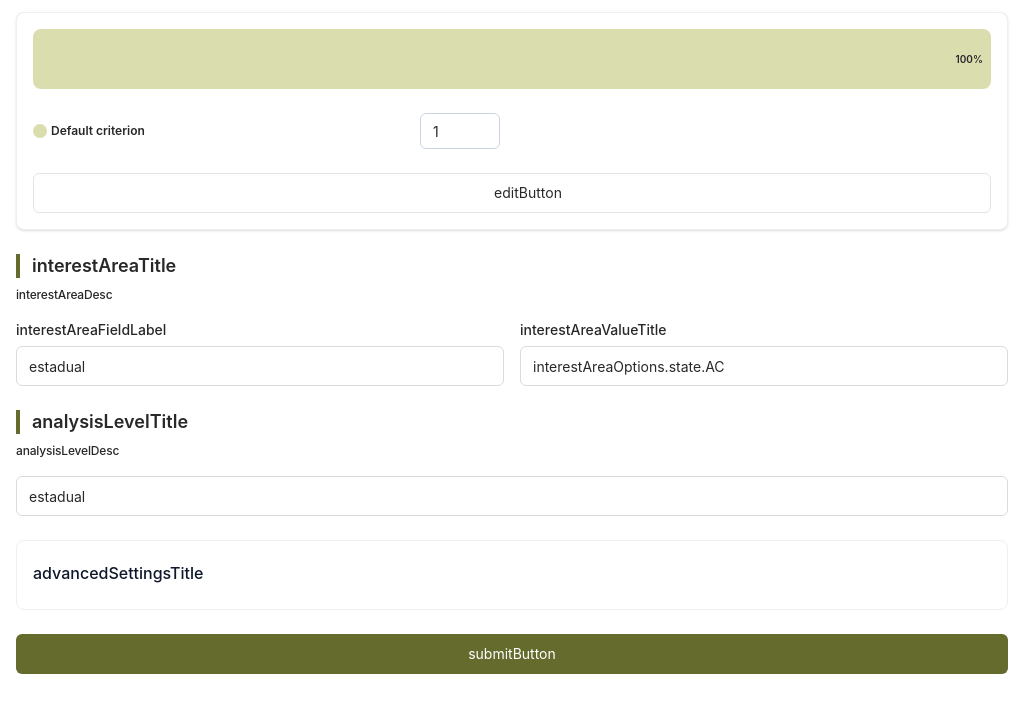
opens the advanced settings when a threshold is missing
This screenshot has width=1024, height=722.
(page scrolled)
Click the button "advancedSettingsTitle" at point(118, 573), box x1=17 y1=545 x2=1007 y2=601
(page scrolled)
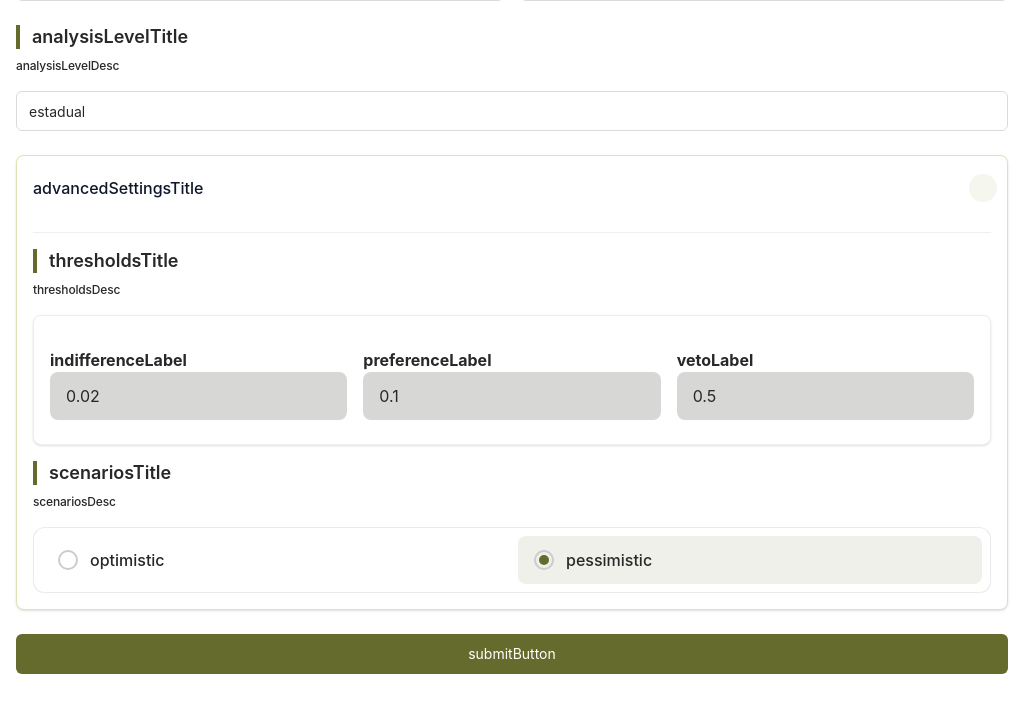
Clear the number field with placeholder "indifferencePlaceholder" at point(199, 396), box x1=50 y1=372 x2=347 y2=420
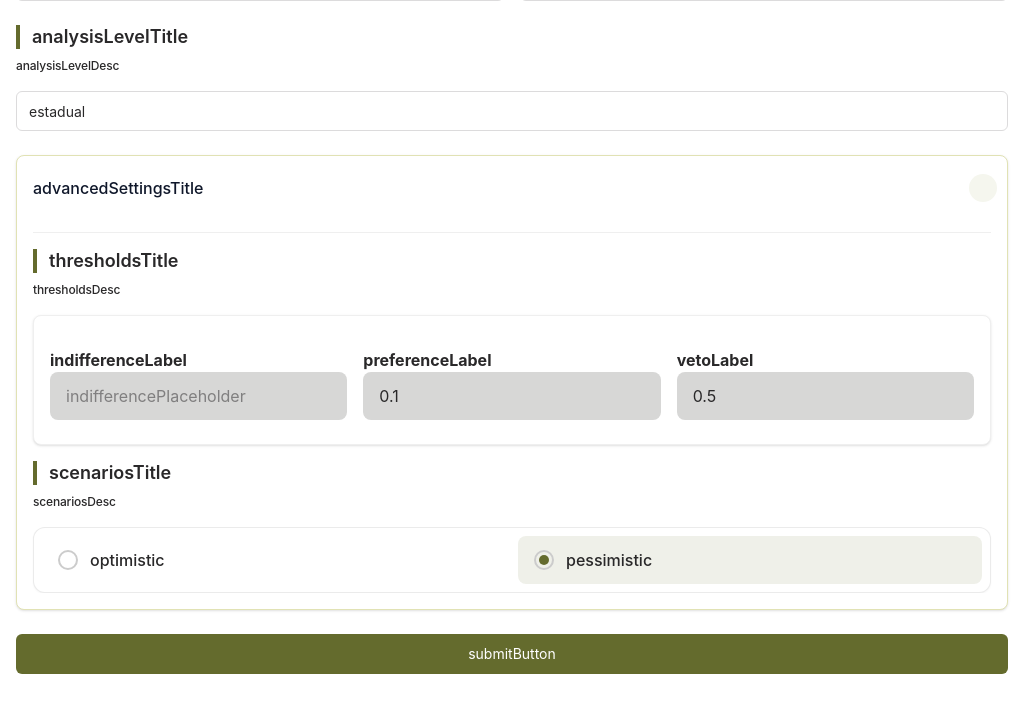
Click the button "advancedSettingsTitle" at point(118, 188), box x1=17 y1=160 x2=1007 y2=216
(page scrolled)
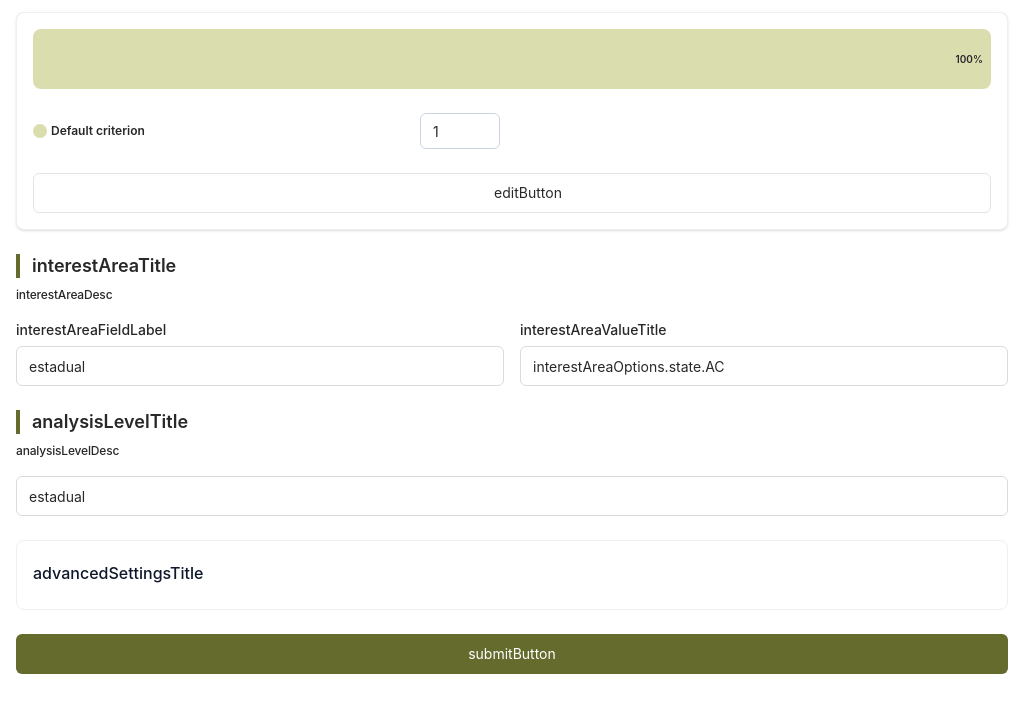
Expected: the button "advancedSettingsTitle" is collapsed, x1=17 y1=545 x2=1007 y2=601
Click the button "submitButton" at point(512, 654), box x1=16 y1=634 x2=1008 y2=674
(page scrolled)
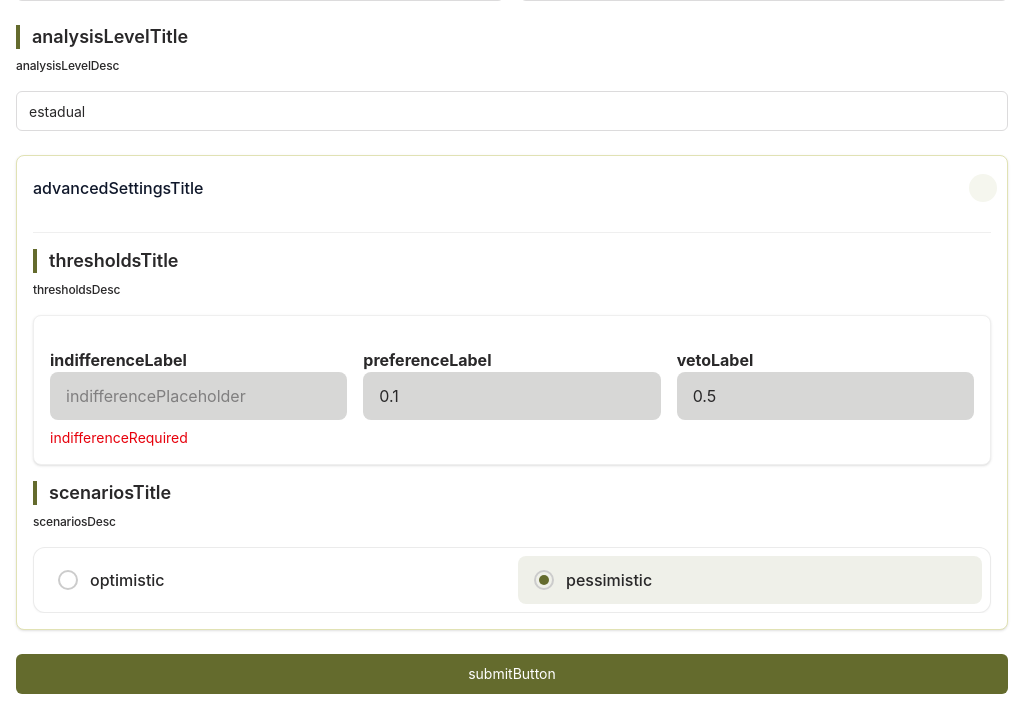
Expected: the button "advancedSettingsTitle" is expanded, x1=17 y1=160 x2=1007 y2=216
Expected: the text "indifferenceRequired" is shown, x1=50 y1=429 x2=188 y2=446
